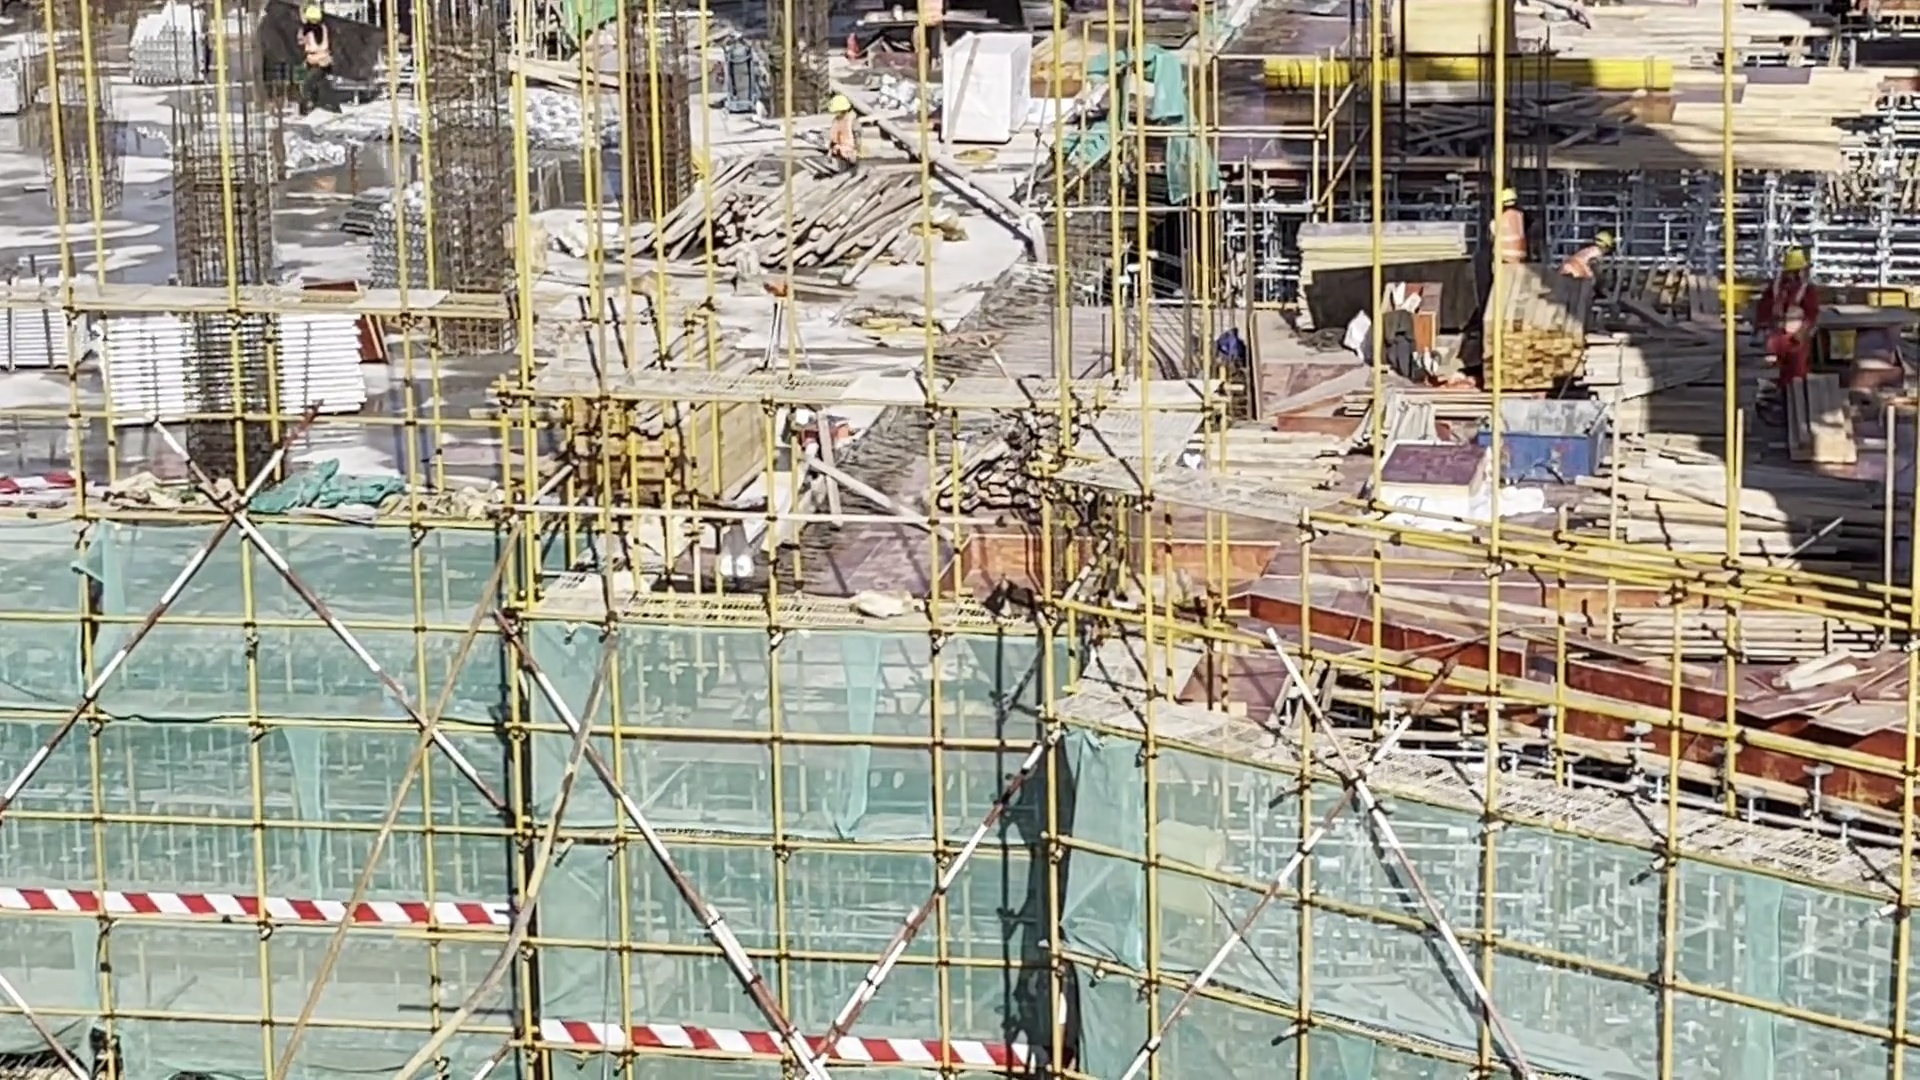board: (1740, 642, 1920, 739)
helmet: (1776, 240, 1804, 276), (1500, 188, 1533, 218), (789, 409, 812, 435), (824, 90, 848, 108), (1595, 230, 1611, 252)
hopper: (1484, 378, 1628, 490)
person: (1769, 251, 1823, 377), (297, 9, 340, 113), (811, 97, 866, 177), (1558, 230, 1619, 294), (1483, 186, 1531, 262)
scaffold: (99, 307, 411, 437), (1, 279, 100, 397)
vest: (1777, 285, 1815, 350), (1564, 245, 1601, 285), (301, 28, 334, 71), (1491, 218, 1525, 256), (831, 111, 859, 150)
wood: (543, 318, 760, 515), (674, 152, 922, 292), (1601, 596, 1834, 657), (1473, 281, 1581, 381)
